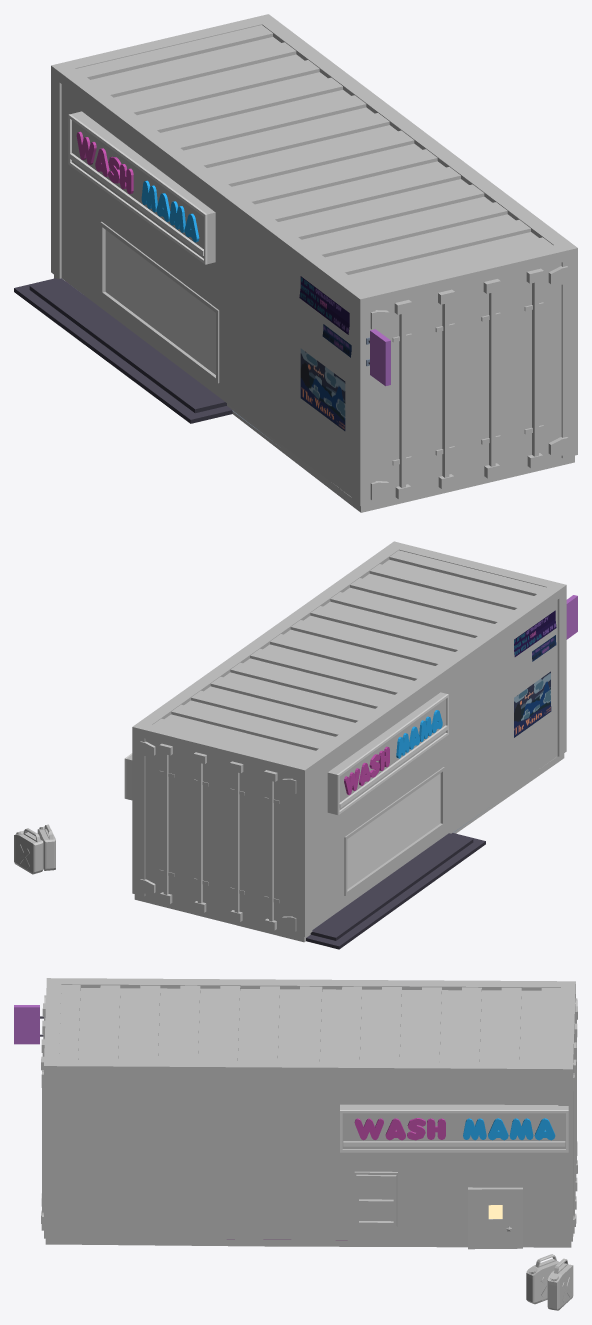
The model's file is CMWashMama.fbx.
3 renders of one model, top to bottom at view 1: azimuth 30°, elevation 25°; view 2: azimuth 150°, elevation 25°; view 3: azimuth 270°, elevation 25°, orthographic. The views are drawn at different scales.
Visible parts, largest first — view 1: BoxCrate.042, WashMama.001, BoxCrate.055, Posters.038, Poster.193, Sign.038; view 2: BoxCrate.042, WashMama.001, OilzwellCanister.005, Posters.038, Poster.193; view 3: BoxCrate.042, WashMama, Door.011, OilzwellCanister.005, Sign.038, BoxCrate.055.
Boxes of the visible parts, box(x1,y1,x2,y2) form: BoxCrate.042: box(14, 14, 577, 512); WashMama.001: box(68, 111, 215, 264); BoxCrate.055: box(370, 266, 568, 500); Posters.038: box(300, 348, 345, 430); Poster.193: box(299, 276, 351, 357); Sign.038: box(366, 329, 390, 386); BoxCrate.042: box(132, 541, 566, 949); WashMama.001: box(327, 692, 448, 815); OilzwellCanister.005: box(14, 824, 55, 874); Posters.038: box(514, 671, 551, 737); Poster.193: box(514, 610, 556, 661); BoxCrate.042: box(44, 978, 577, 1247); WashMama: box(340, 1104, 568, 1152); Door.011: box(468, 1187, 522, 1249); OilzwellCanister.005: box(526, 1254, 573, 1310); Sign.038: box(14, 1005, 43, 1044); BoxCrate.055: box(41, 995, 46, 1230).
Size of the model in its own units: 1831 by 906 by 2584.
